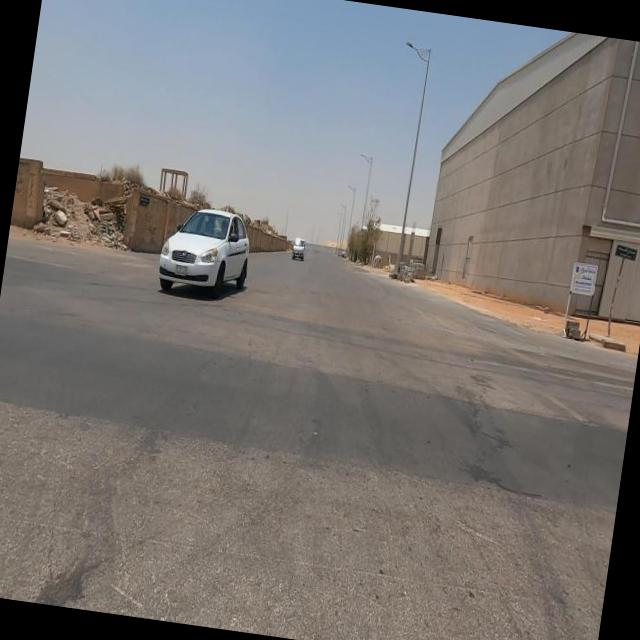debris: (56, 166, 162, 279), (19, 172, 102, 268), (374, 245, 428, 312)
